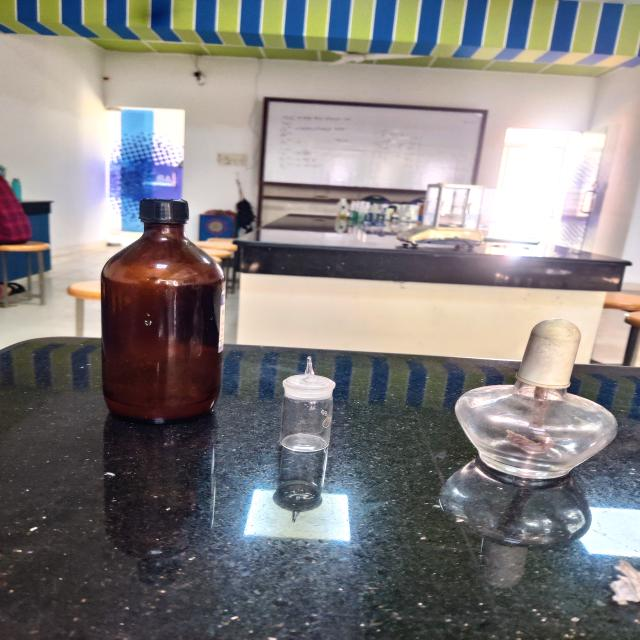Nessler_Reagent_Bottle: (83, 189, 248, 440)
Spirit_Lamp: (426, 302, 640, 523)
Weighing_Bottle: (269, 349, 356, 470)
